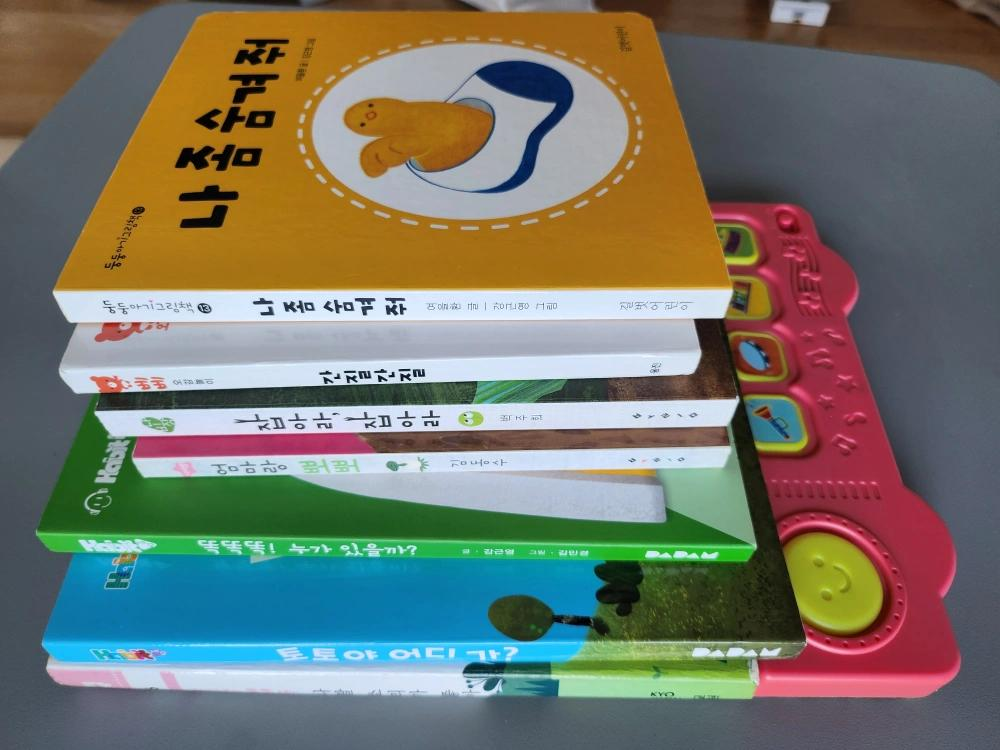book: (30, 200, 951, 702), (51, 6, 735, 325)
